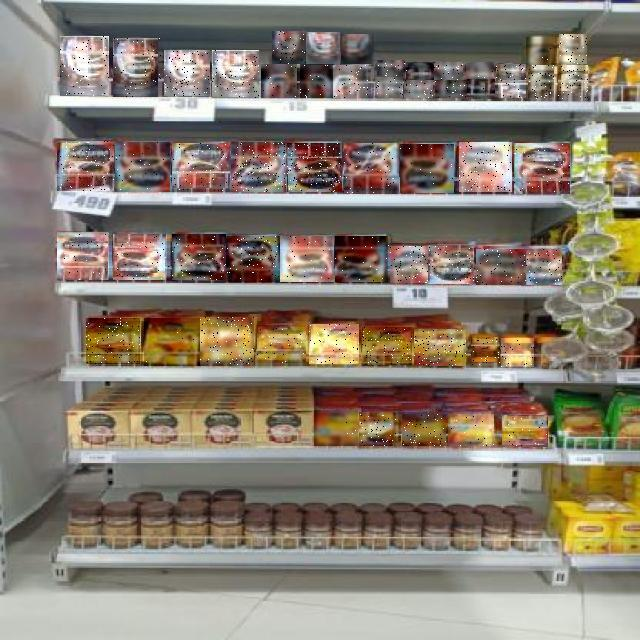Coffee: (60, 36, 109, 96), (57, 140, 114, 191), (515, 143, 571, 194), (114, 38, 162, 97), (172, 144, 230, 192), (115, 142, 170, 192), (231, 143, 286, 193), (344, 144, 399, 194), (287, 143, 342, 192), (145, 319, 201, 367), (459, 143, 512, 193), (401, 144, 455, 193), (58, 232, 112, 280), (200, 318, 254, 366), (114, 234, 170, 280), (172, 234, 226, 280), (281, 236, 335, 282), (336, 236, 390, 282), (226, 236, 280, 282), (86, 318, 140, 364), (212, 50, 259, 98), (164, 50, 210, 96), (309, 325, 359, 365), (256, 326, 306, 366), (414, 329, 466, 366), (363, 327, 413, 365), (477, 249, 527, 285), (428, 245, 474, 284), (314, 411, 358, 447), (449, 414, 495, 446), (503, 415, 549, 447), (402, 414, 446, 446), (390, 246, 428, 283), (524, 249, 562, 285), (360, 412, 398, 446), (261, 64, 297, 98), (334, 65, 370, 98), (300, 64, 334, 98), (272, 31, 306, 64), (306, 32, 340, 65), (558, 66, 588, 100), (342, 34, 376, 64), (501, 338, 534, 367), (529, 64, 555, 100), (559, 34, 587, 64), (471, 338, 500, 366), (526, 37, 554, 65), (375, 77, 403, 98), (435, 80, 467, 98), (467, 79, 495, 99), (466, 62, 494, 81), (434, 62, 463, 80), (404, 80, 433, 98), (496, 64, 526, 81), (377, 60, 405, 78), (406, 62, 434, 80), (499, 80, 527, 98)
